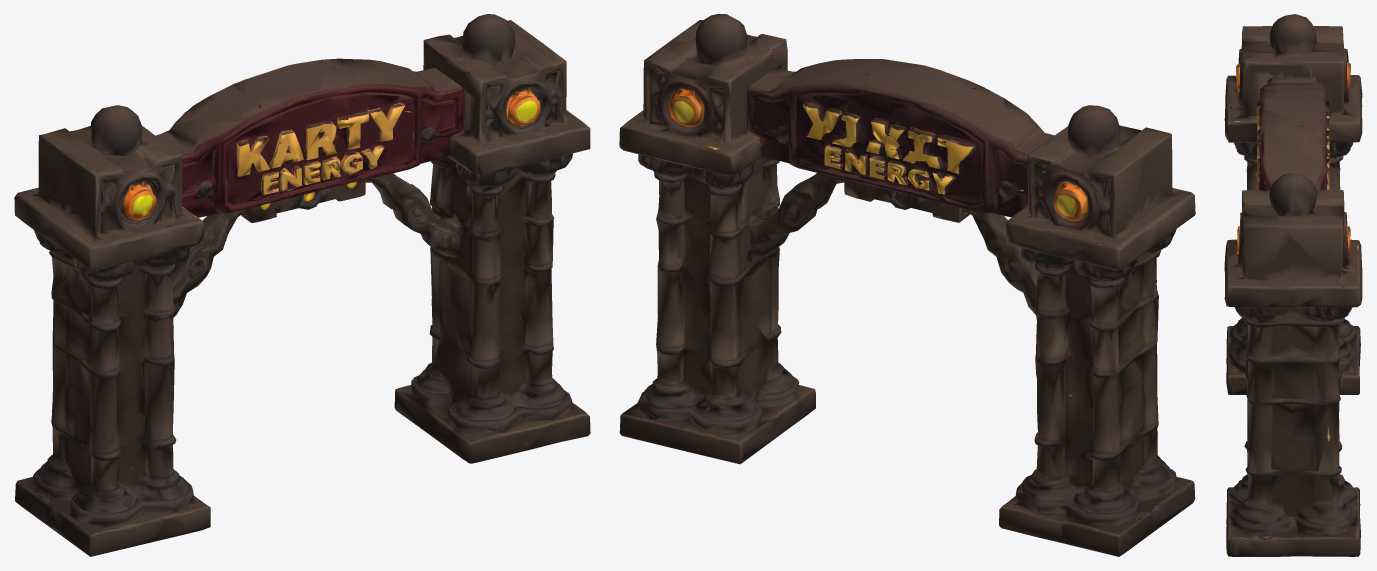
Rendered from checkpointArch.f7fee2d6.glb.
The picture shows the model from 3 angles, left to right: view 1: azimuth 30°, elevation 25°; view 2: azimuth 150°, elevation 25°; view 3: azimuth 270°, elevation 25°; orthographic projection. The views are drawn at different scales.
Size of the model in its own units: 1.9 by 1.47 by 0.5177.
Materials: 1 (1 with a texture image).
